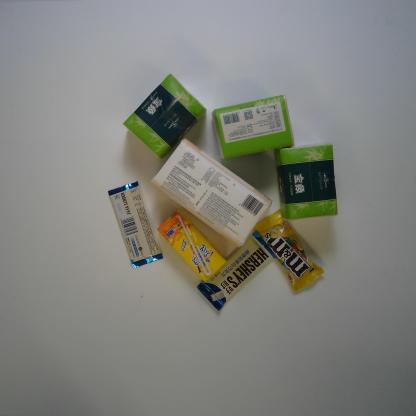Chocolate: (251, 210, 326, 298), (196, 235, 278, 313), (107, 178, 163, 269)
Drink: (155, 208, 227, 287)
Tissue: (149, 134, 273, 249), (121, 72, 209, 161), (209, 92, 296, 163), (275, 142, 339, 223)
